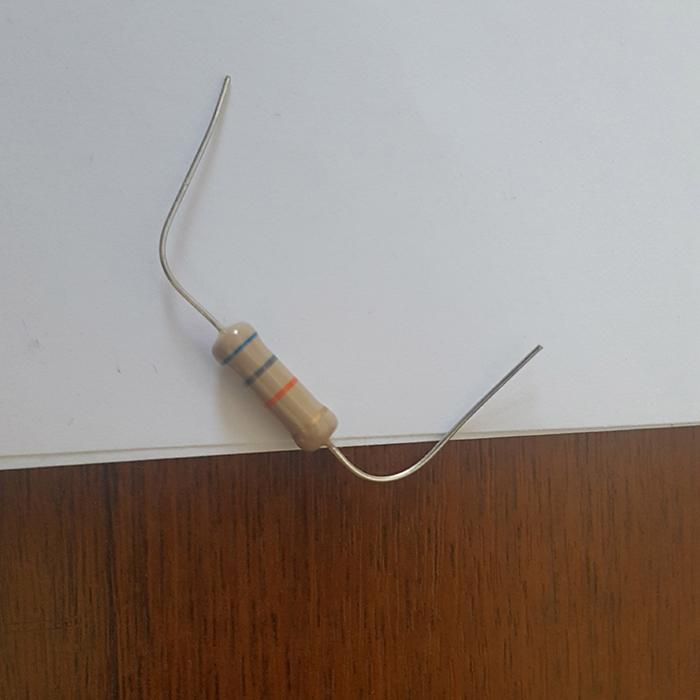resistor: (213, 320, 339, 450)
